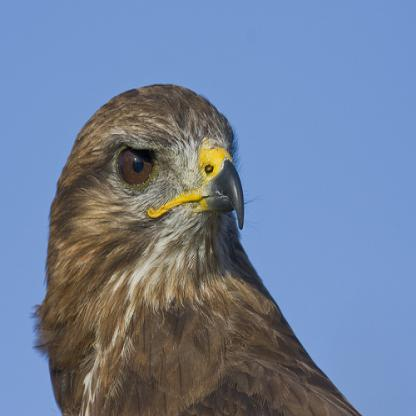bird: (34, 81, 363, 415)
